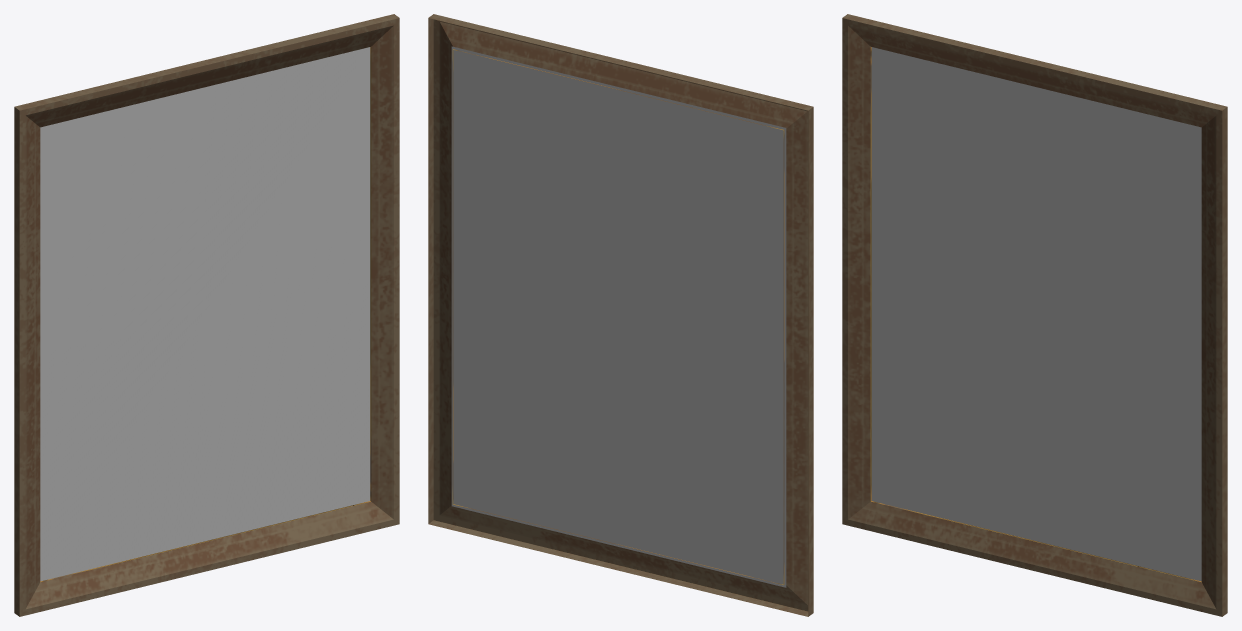
The model's file is framegold03_Mirror.fbx.
3 views of the same model, side by side, from view 1: azimuth 30°, elevation 25°; view 2: azimuth 150°, elevation 25°; view 3: azimuth 330°, elevation 25° (orthographic).
Parts seen in each view (by area): view 1: SA_Framegold03_Mirror; view 2: SA_Framegold03_Mirror; view 3: SA_Framegold03_Mirror.
Part boxes in pixels (x1,y1,x2,y2): SA_Framegold03_Mirror: (14, 14, 399, 616); SA_Framegold03_Mirror: (428, 14, 813, 616); SA_Framegold03_Mirror: (842, 14, 1227, 616).
Bounding box in the file's own units: 110 × 140 × 2.73.
